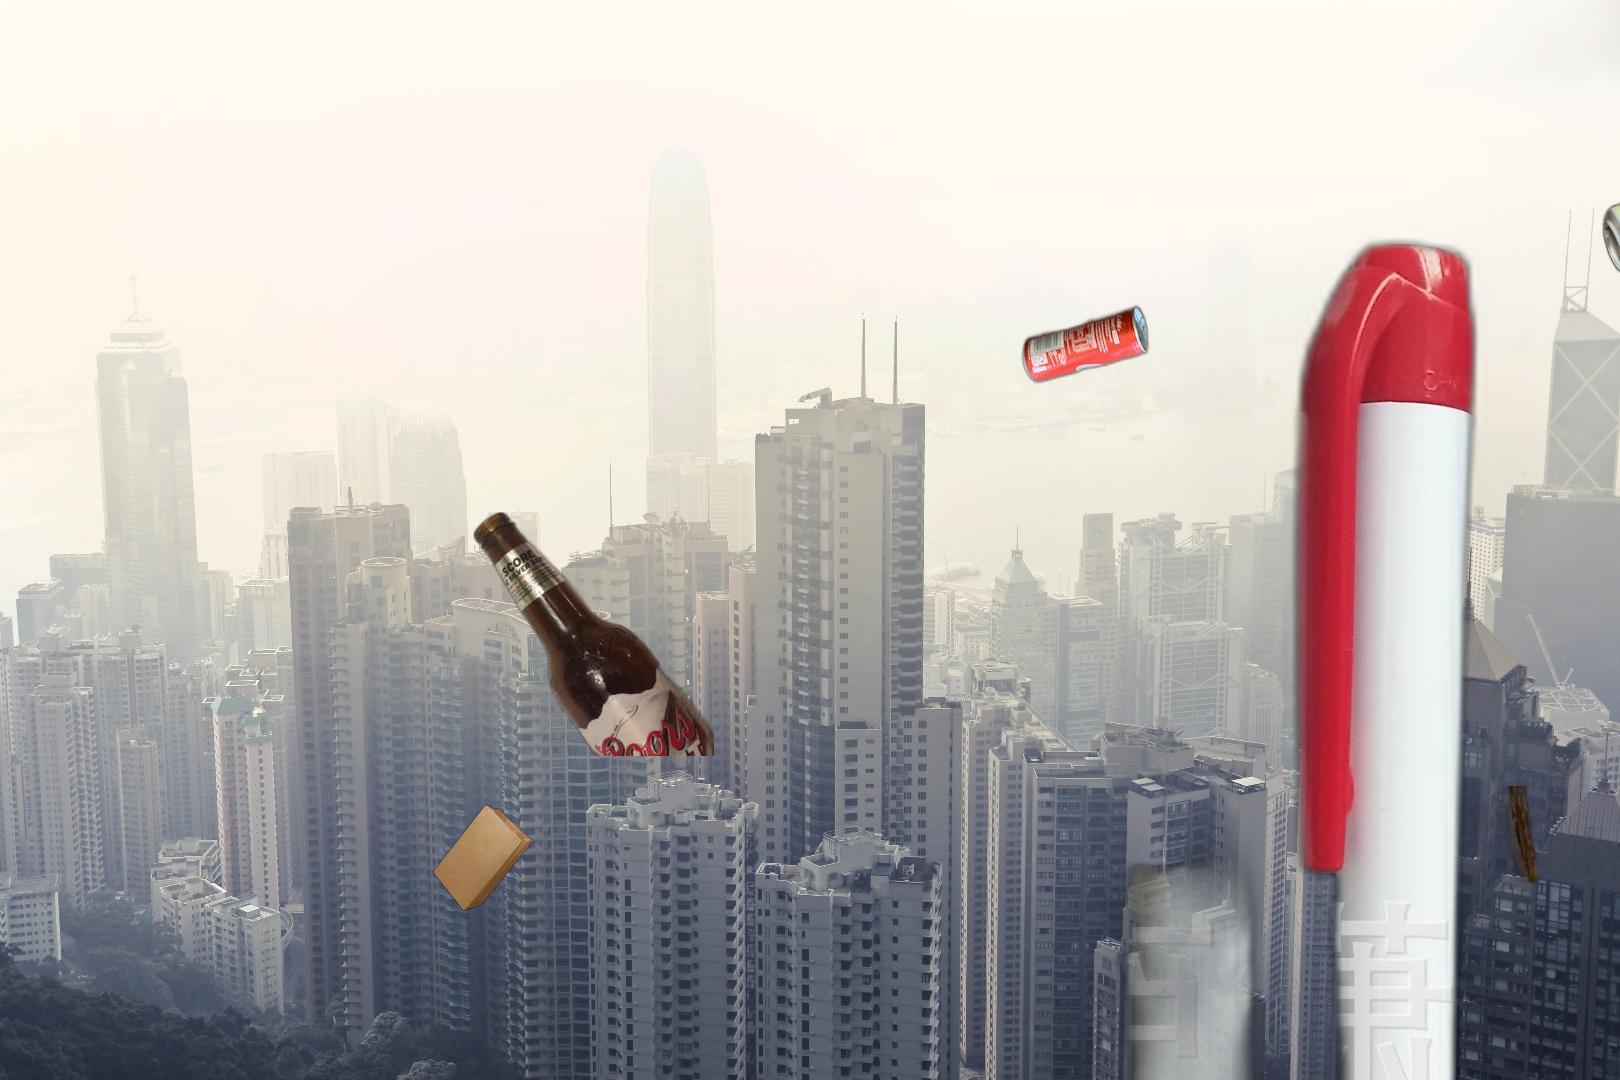glass: (469, 510, 714, 756)
metal-cans: (1019, 301, 1154, 388), (1598, 164, 1620, 284)
paper-bag: (330, 802, 536, 1080)
penholder: (1072, 228, 1620, 1080)
trashbox-cardboard: (1454, 786, 1620, 985)
